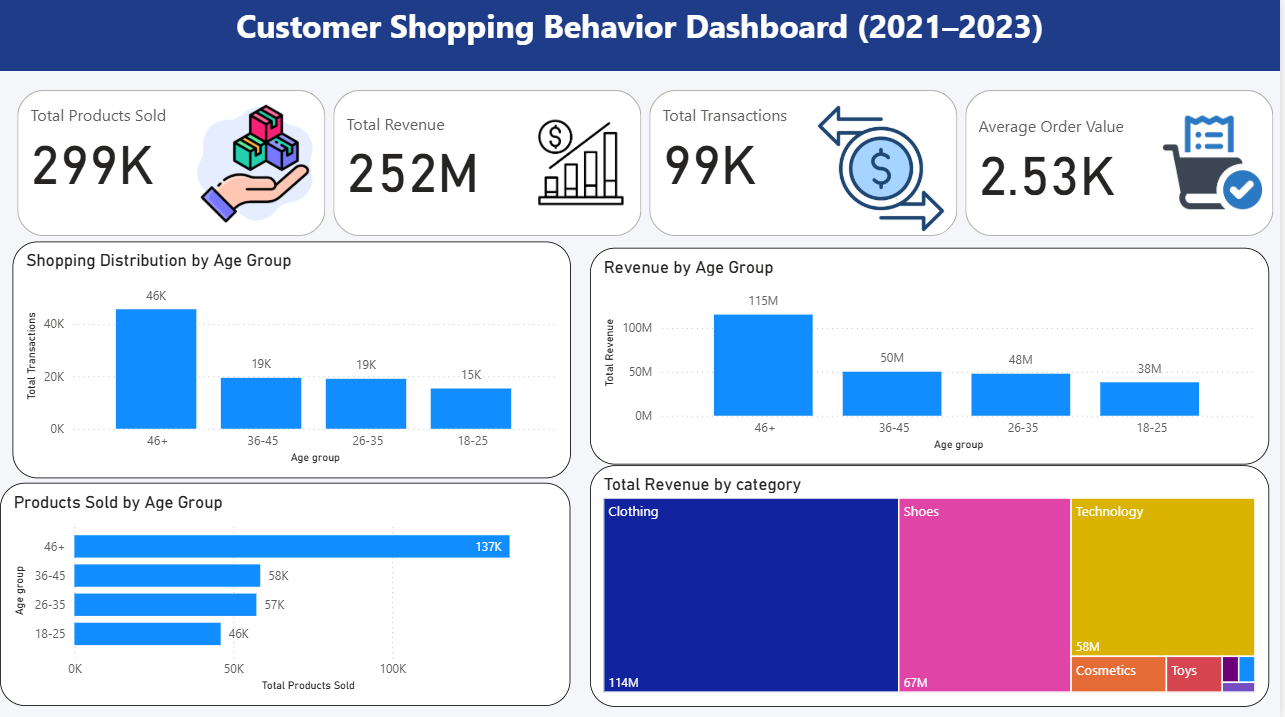

This screenshot's page, from the dashboard's own definition file:
{"tool":"powerbi","page":{"name":"Age Analysis","canvas":[1280,720],"ordinal":2},"visuals":[{"type":"textbox","box":[0,0,1280,72.4],"z":0},{"type":"cardVisual","fields":{"Data":["country_deatils_datasets.Total Products Sold","country_deatils_datasets.Total Revenue","country_deatils_datasets.Total Transactions","country_deatils_datasets.Average Order Value"]},"box":[12.1,85.7,1268,156.8],"z":1000},{"type":"columnChart","title":"Shopping Distribution by Age Group","fields":{"Category":["country_deatils_datasets.Age group"],"Y":["country_deatils_datasets.Total Transactions"]},"box":[12.1,242.5,558.6,236.5],"z":2000},{"type":"clusteredBarChart","title":"Products Sold by Age Group","fields":{"Category":["country_deatils_datasets.Age group"],"Y":["country_deatils_datasets.Total Products Sold"]},"box":[0,483.8,570.6,223.2],"z":3000},{"type":"columnChart","title":"Revenue by Age Group","fields":{"Category":["country_deatils_datasets.Age group"],"Y":["country_deatils_datasets.Total Revenue"]},"box":[589.9,248.5,679.2,217.2],"z":4000},{"type":"treemap","fields":{"Group":["country_deatils_datasets.category"],"Values":["country_deatils_datasets.Total Revenue"]},"box":[589.9,465.7,679.2,241.3],"z":5000}]}

Visuals, with their boxes in screenshot pixels (x1, y1, x2, y2), scaled from the page's 1280x720 canvas onto the 1285x717 screenshot:
textbox: select_region(0, 0, 1284, 72)
cardVisual - country_deatils_datasets.Total Products Sold x country_deatils_datasets.Total Revenue: select_region(12, 85, 1284, 241)
"Shopping Distribution by Age Group" columnChart: select_region(12, 241, 573, 477)
"Products Sold by Age Group" clusteredBarChart: select_region(0, 482, 573, 704)
"Revenue by Age Group" columnChart: select_region(592, 247, 1274, 464)
treemap - country_deatils_datasets.category x country_deatils_datasets.Total Revenue: select_region(592, 464, 1274, 704)
